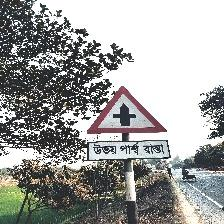Crossroad: (86, 86, 171, 160)
